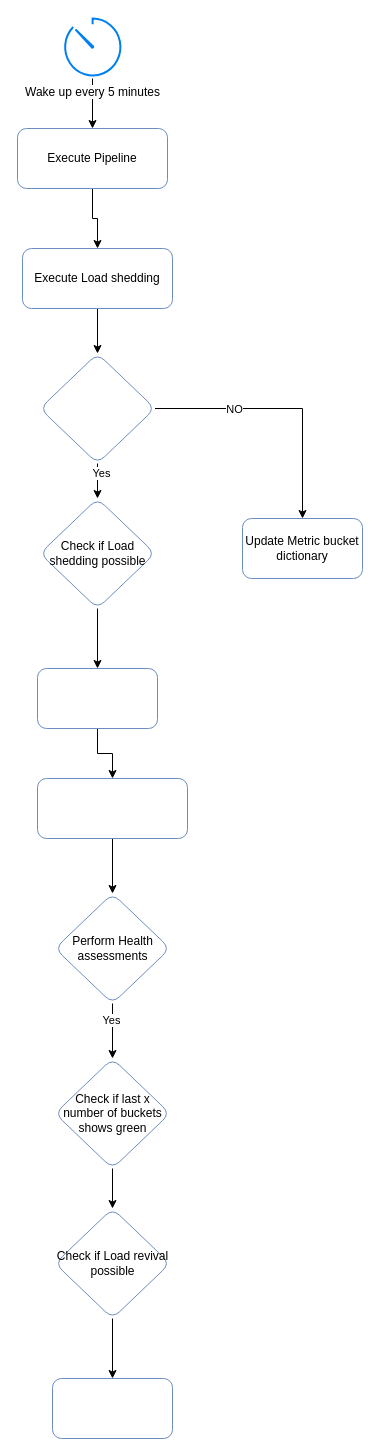
Some shapes in this 380 by 1456 pixel diagram are drawn without their labels. Each missing label, with the centre of its shape:
Execute Load revival: pixel 112 808
Perform Health assessment: pixel 97 408
Trigger Load revival: pixel 112 1408
Trigger Load shedding: pixel 97 698
